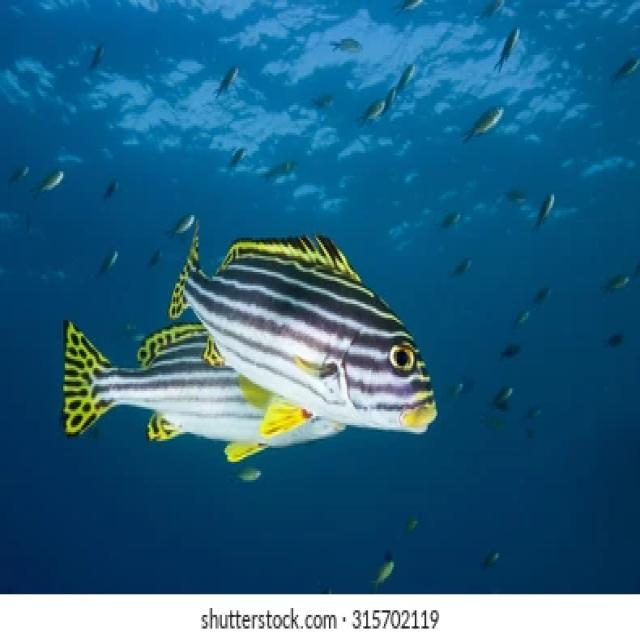RibbonedSweetlips: (169, 220, 438, 440), (62, 318, 347, 462)
